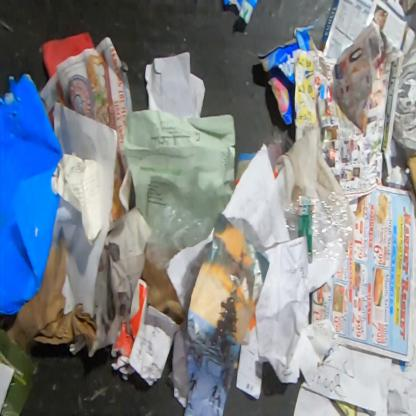cardboard: (6, 238, 97, 354), (257, 17, 320, 126), (142, 260, 185, 325)
rigid_plastic: (283, 191, 355, 265)
soft_plastic: (144, 204, 216, 271), (392, 38, 416, 158)
